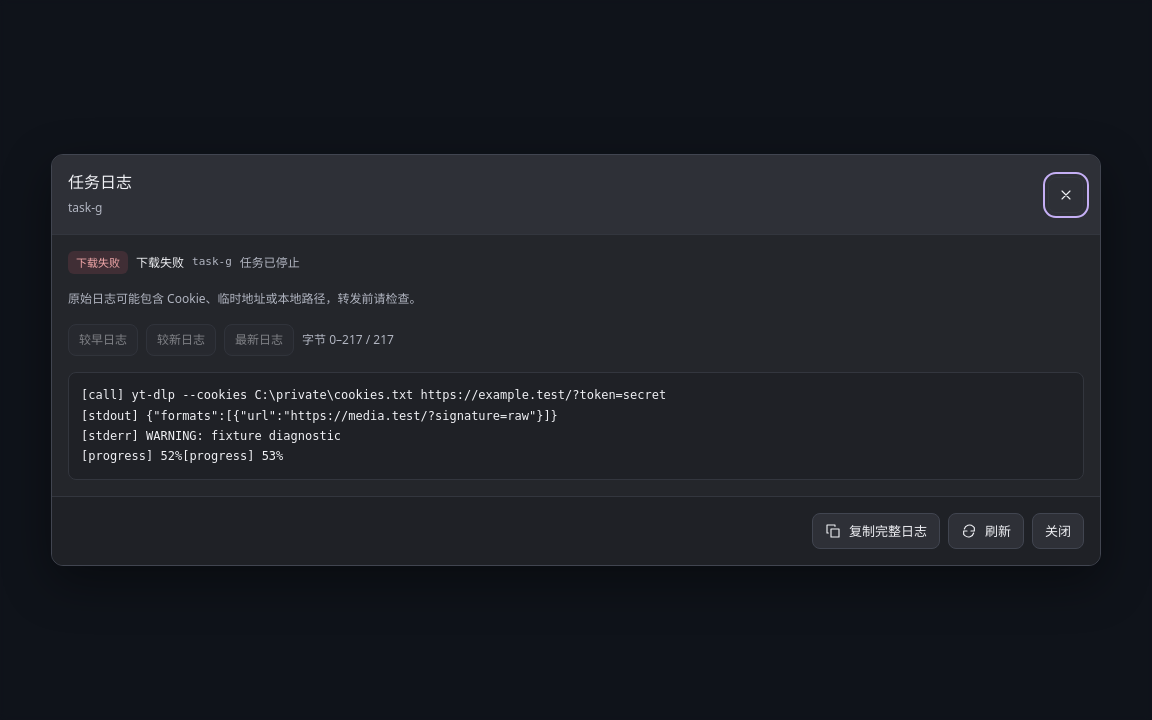
Test: raw task logs › shows Chinese text and an actionable error when clipboard access is unavailable
This screenshot has width=1152, height=720.
Expected: the text named "任务日志内容" is shown, [68, 372, 1084, 480]
What coordinates should you click on to do the following:
click the button "复制完整日志"
I would click on:
 (876, 531)
Its box is [812, 513, 940, 549].
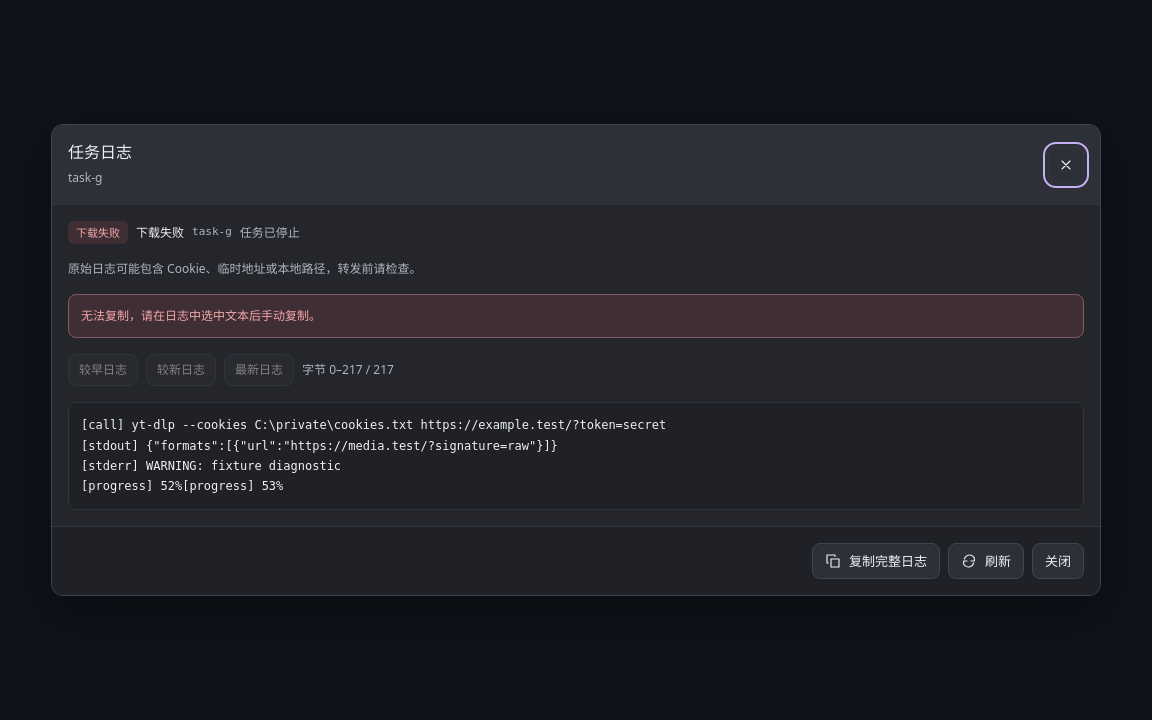
Expected: the message reads "无法复制，请在日志中选中文本后手动复制。", [81, 307, 321, 324]
